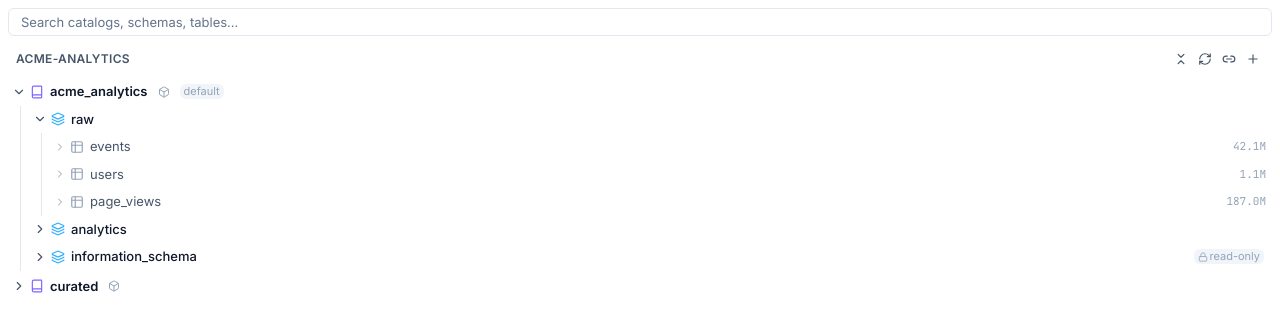
Scenario: CatalogTree › says when nothing matches
The width and height of the screenshot is (1280, 310).
Type "zzz_nothing" into the field named "Search tables".
click(640, 22); type("zzz_nothing")  # box [8,8,1272,36]
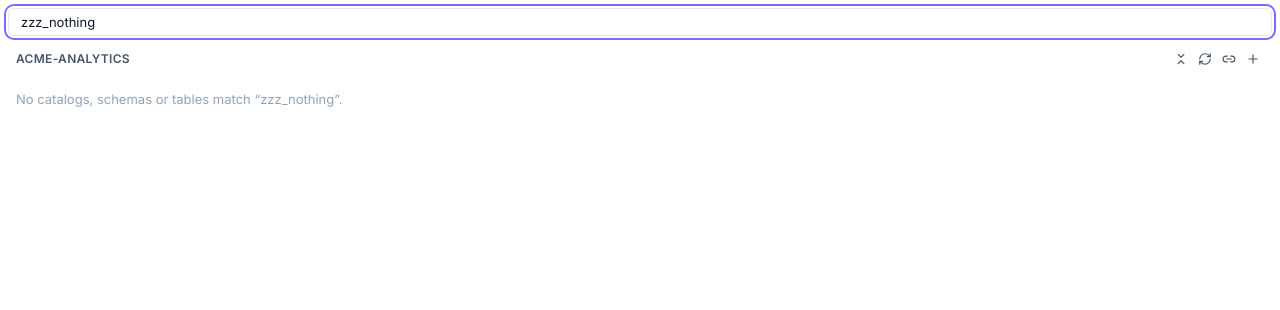
Now the text "No catalogs, schemas or tables match “zzz_nothing”." is shown, box [16,91,342,107]
